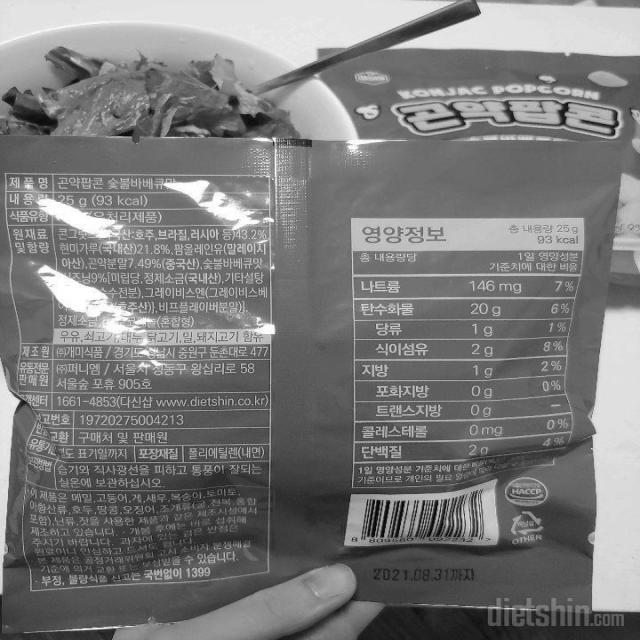Nutrition Label: (341, 205, 602, 493)
